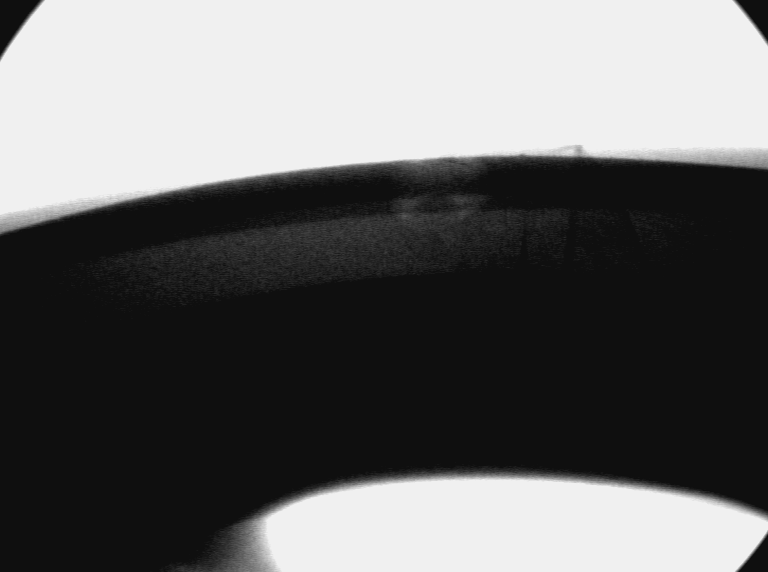defect: (391, 158, 491, 235)
